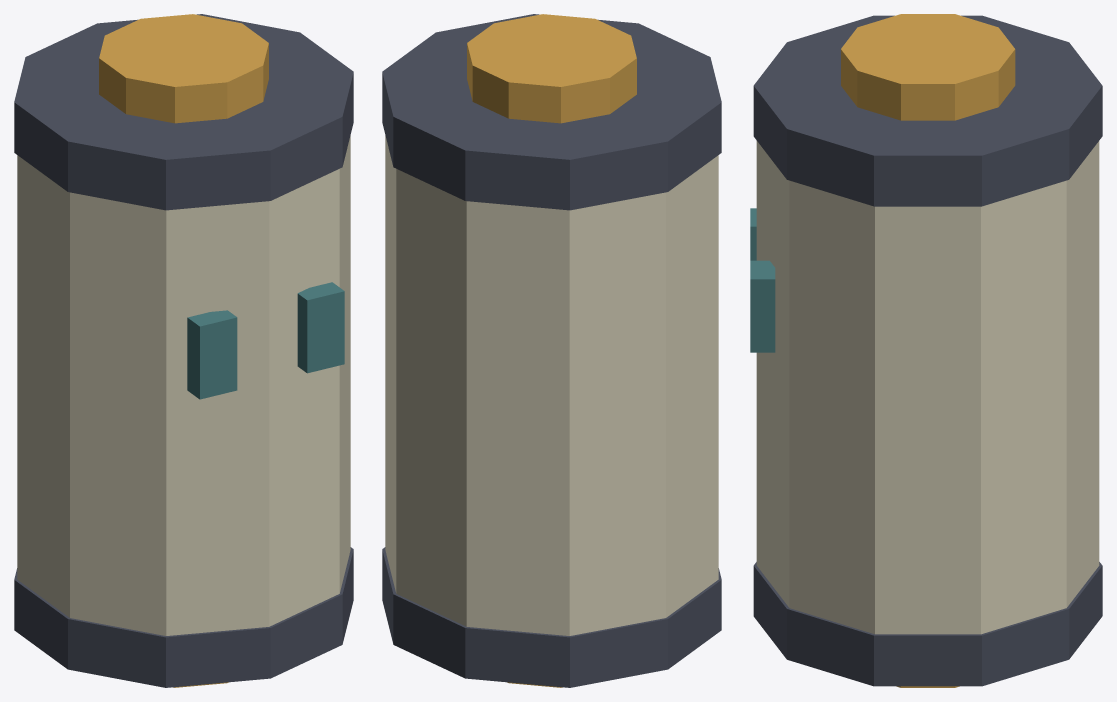
The model's file is reactor-mk02.glb.
3 renders of one model, left to right at view 1: azimuth 30°, elevation 25°; view 2: azimuth 150°, elevation 25°; view 3: azimuth 270°, elevation 25°, orthographic.
Parts seen in each view (by area): view 1: reactor_case, end_collar.001, end_collar, connector.001, service_latch, service_latch.001; view 2: reactor_case, end_collar.001, end_collar, connector.001; view 3: reactor_case, end_collar.001, end_collar, connector.001, service_latch.001.
Boxes of the visible parts, x1,y1,x2,y2 form: reactor_case: (17, 135, 350, 635); end_collar.001: (14, 14, 353, 210); end_collar: (14, 547, 353, 687); connector.001: (99, 14, 268, 123); service_latch: (187, 310, 237, 399); service_latch.001: (297, 282, 344, 373); reactor_case: (385, 135, 718, 635); end_collar.001: (382, 14, 721, 210); end_collar: (382, 547, 721, 687); connector.001: (467, 14, 636, 123); reactor_case: (756, 141, 1099, 634); end_collar.001: (753, 15, 1102, 206); end_collar: (753, 562, 1102, 686); connector.001: (841, 14, 1015, 120); service_latch.001: (750, 260, 775, 352).
Size of the model in its own units: 1.07 by 2.14 by 1.13.
